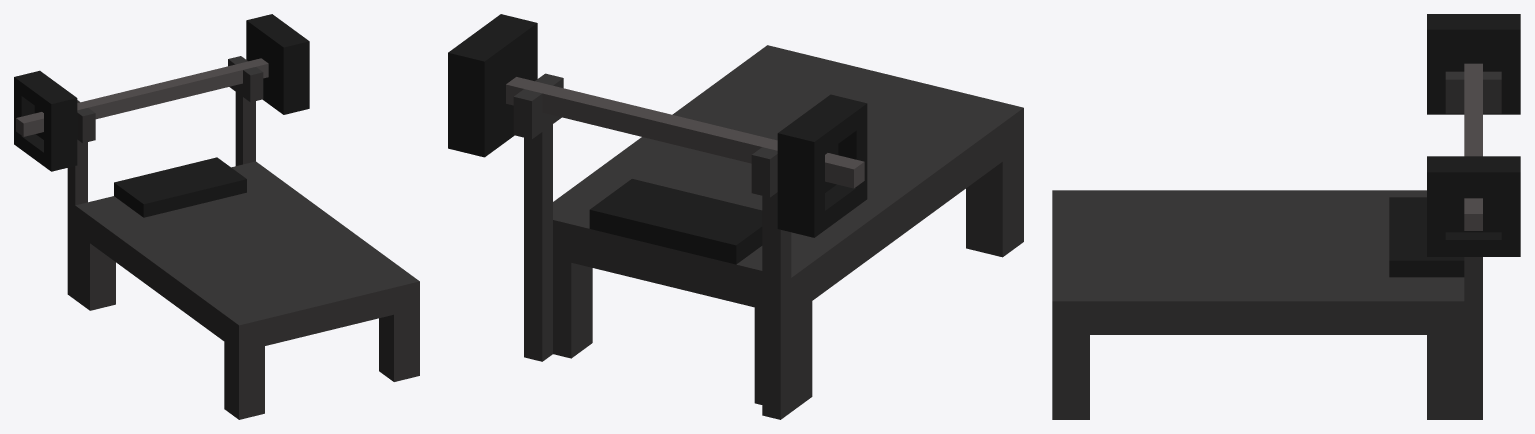
File: Benchpress.gltf
The picture shows the model from 3 angles, left to right: view 1: azimuth 30°, elevation 25°; view 2: azimuth 150°, elevation 25°; view 3: azimuth 270°, elevation 25°; orthographic projection. The views are drawn at different scales.
Visible parts, largest first — view 1: Layer.1, Layer.2; view 2: Layer.1, Layer.2; view 3: Layer.1, Layer.2.
Boxes of the visible parts, box(x1,y1,x2,y2) form: Layer.1: box(67, 56, 419, 419); Layer.2: box(14, 14, 309, 217); Layer.1: box(513, 45, 1023, 419); Layer.2: box(448, 14, 867, 264); Layer.1: box(1052, 71, 1501, 419); Layer.2: box(1389, 14, 1520, 277).
Size of the model in its own units: 22 by 16 by 25.
Materials: 1 (1 with a texture image).
